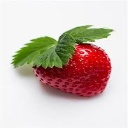strawberry: (20, 30, 120, 102)
